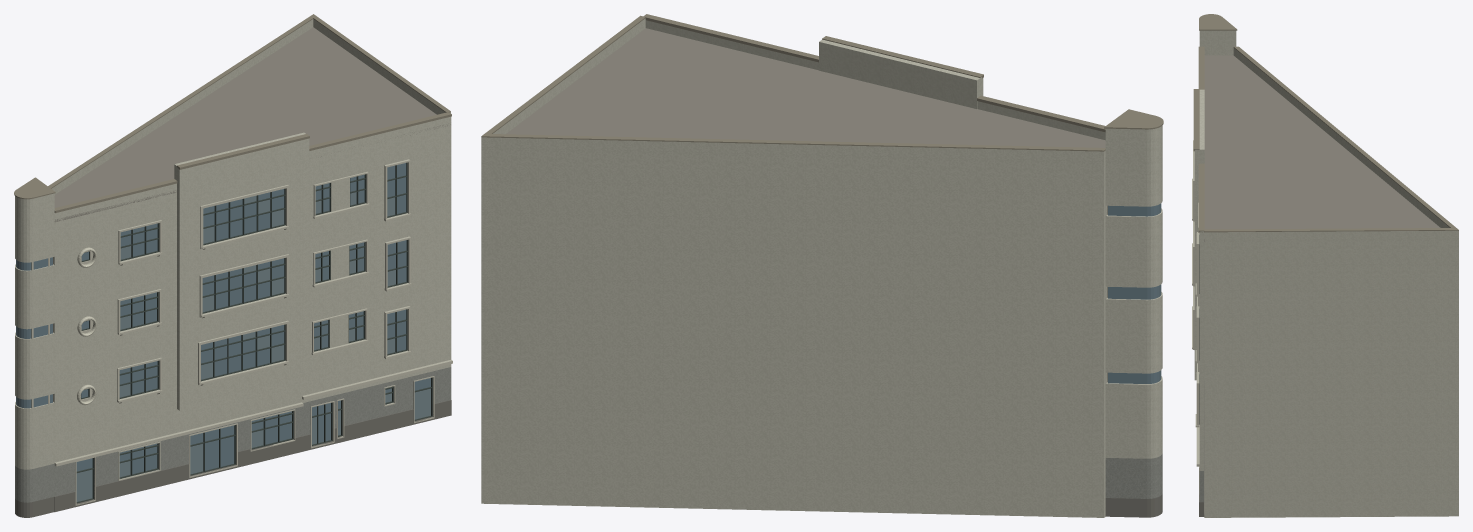
Rendered from xuhui-capetown-apartments-wukang-road-wedge-lod.glb.
The picture shows the model from 3 angles, left to right: view 1: azimuth 30°, elevation 25°; view 2: azimuth 150°, elevation 25°; view 3: azimuth 270°, elevation 25°; orthographic projection. The views are drawn at different scales.
Parts seen in each view (by area): view 1: 开普敦公寓; view 2: 开普敦公寓; view 3: 开普敦公寓.
Part boxes in pixels (bbox=[...]): 开普敦公寓: bbox=[14, 14, 452, 517]; 开普敦公寓: bbox=[481, 14, 1163, 517]; 开普敦公寓: bbox=[1192, 14, 1458, 517].
Size of the model in its own units: 21.74 by 15.41 by 12.26.
Materials: 9 (2 with a texture image).
